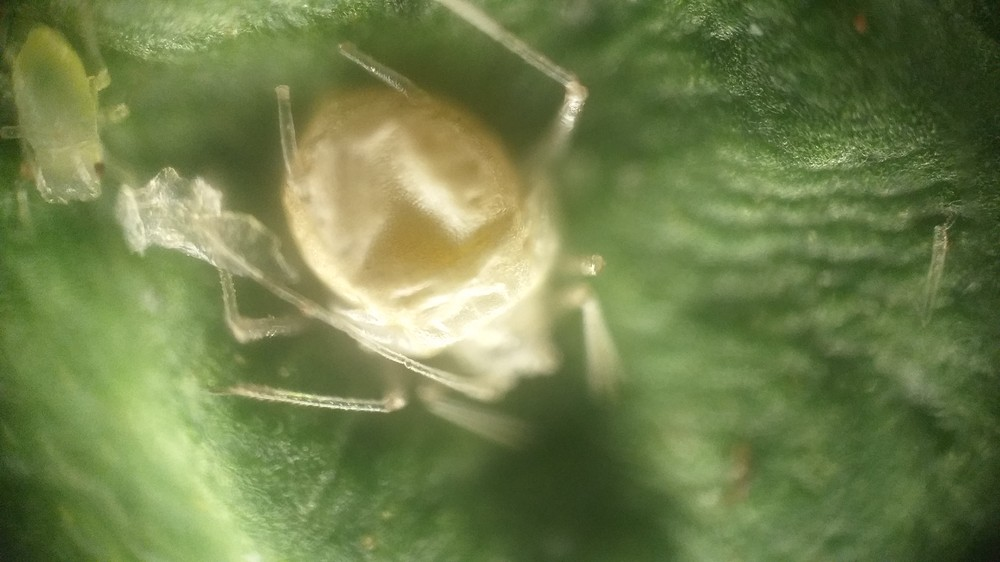Pulgon: (204, 15, 683, 467), (4, 11, 161, 247)
